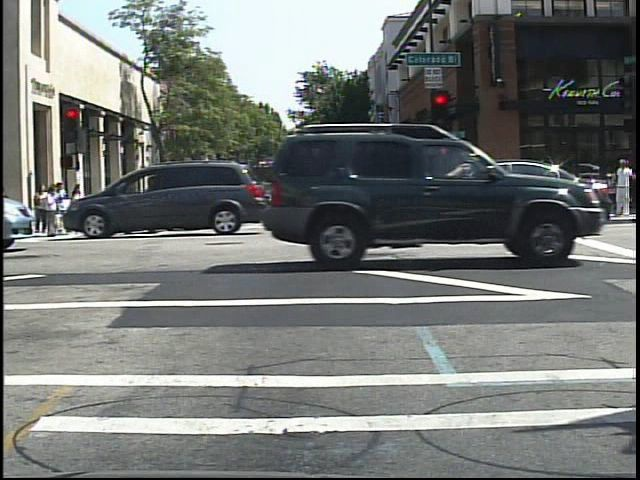person: (611, 154, 637, 222), (165, 181, 183, 221)
